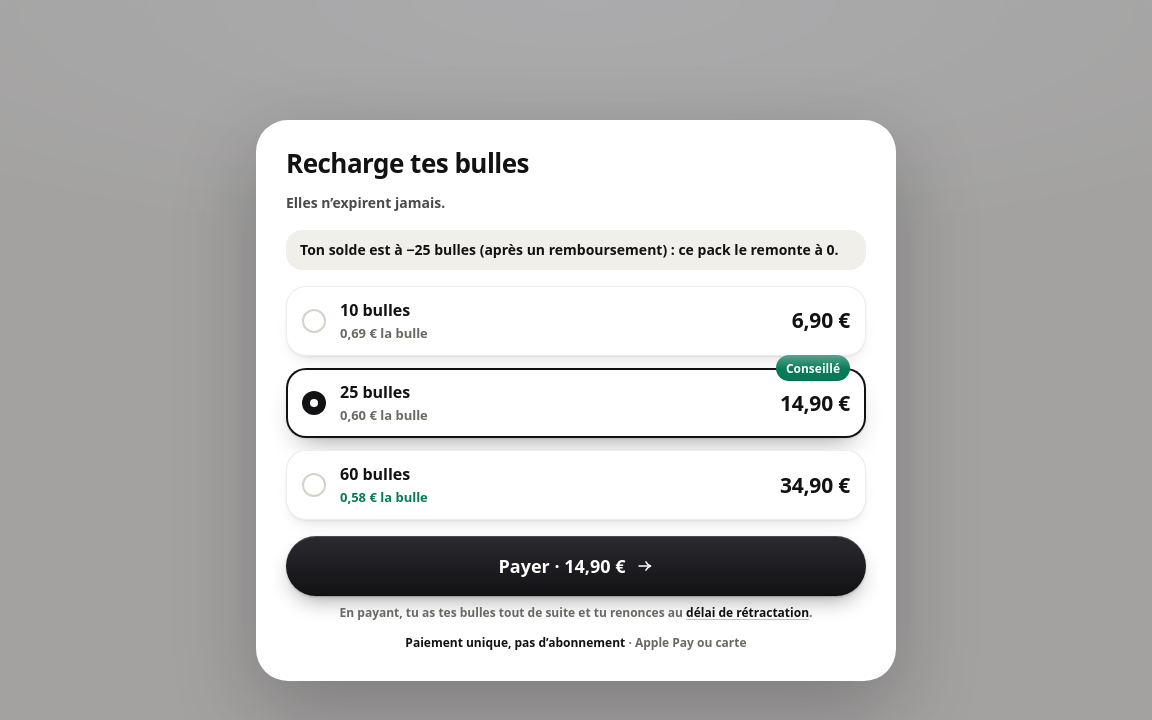
it: la recharge › un solde sous zéro (un remboursement) : la feuille le dit, avec ce que le pack choisi en fera (SUP14-1) ; à 0 ou plus, rien
The width and height of the screenshot is (1152, 720).
Check: the text "Ton solde est à .25 bulles (après un remboursement) : ce pack le remonte à 0." is shown, box left=300, top=240, right=839, bottom=259
Click the radio button labelled "10 bulles 0,69 € la bulle 6,90 €" at point(375, 310), box left=286, top=286, right=866, bottom=356
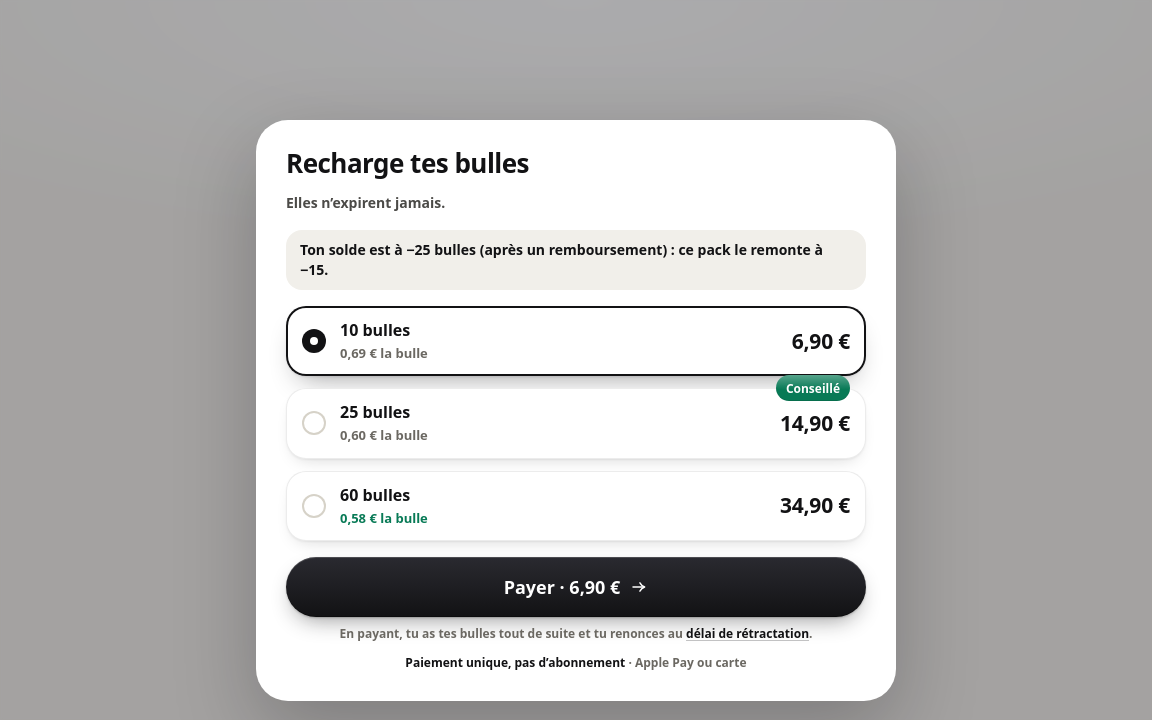
Check: the text "ce pack le remonte à .15." is shown, box left=300, top=240, right=823, bottom=279
